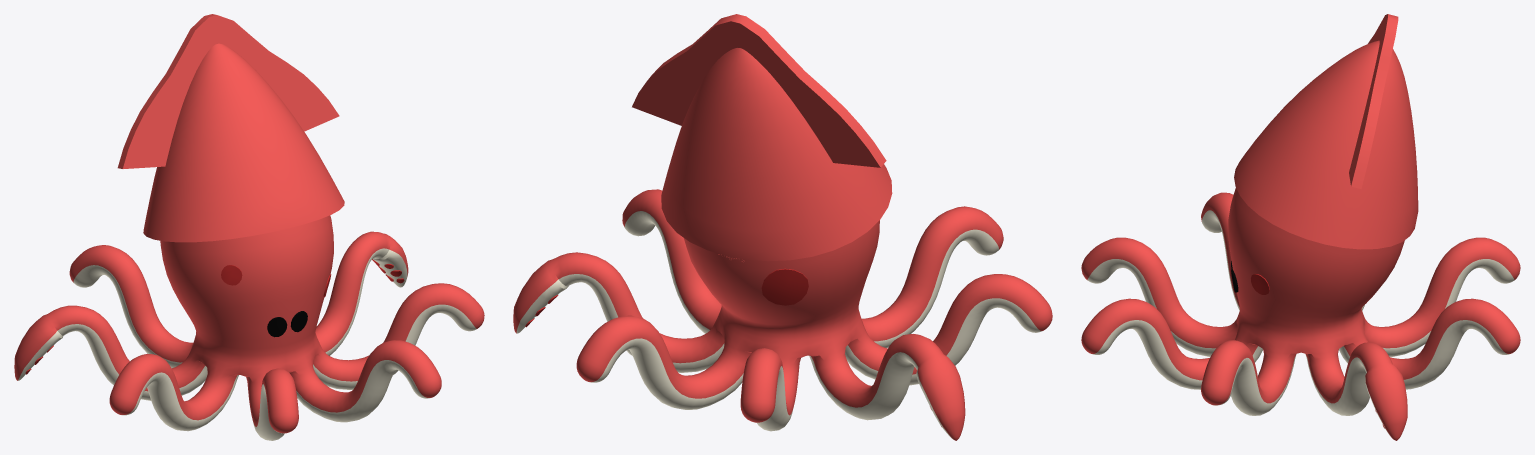
File: squid.fbx
3 renders of one model, left to right at view 1: azimuth 30°, elevation 25°; view 2: azimuth 150°, elevation 25°; view 3: azimuth 270°, elevation 25°, orthographic. The views are drawn at different scales.
Visible parts, largest first — view 1: Circle.2102; view 2: Circle.2102; view 3: Circle.2102.
Part boxes in pixels (x1,y1,x2,y2): Circle.2102: (14,14,484,440); Circle.2102: (513,14,1052,440); Circle.2102: (1081,14,1520,440).
Bounding box in the file's own units: 233 × 198 × 222.
1 material, 1 textured.
